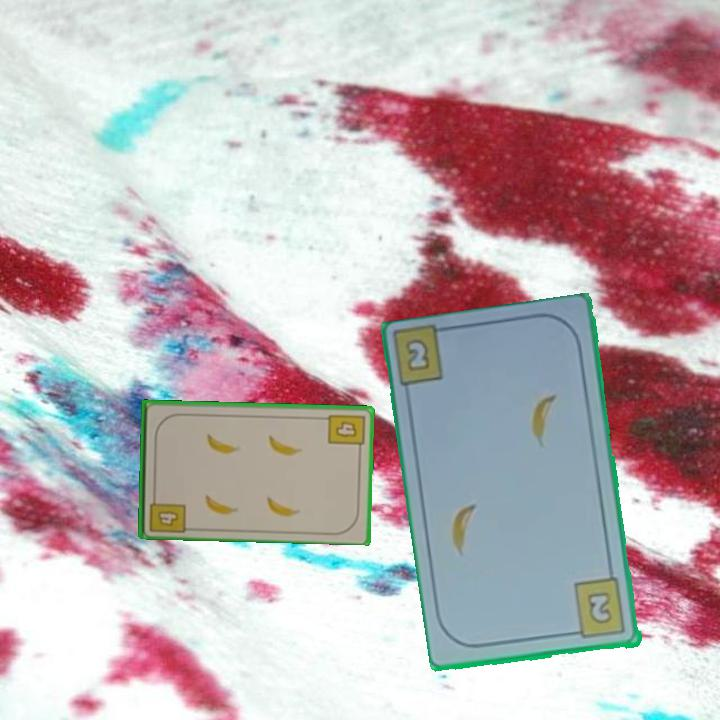2b: (567, 575, 629, 642), (401, 335, 434, 375)
4b: (145, 490, 188, 535), (325, 411, 367, 454)
